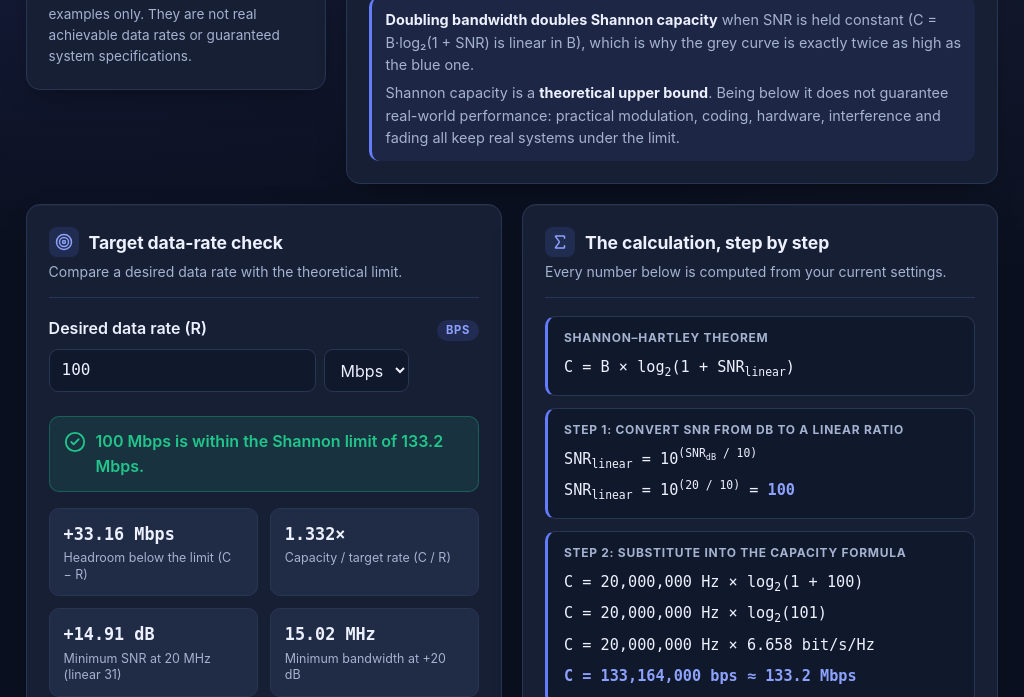
Scenario: Stage 6: target analyzer › flags a target above capacity and gives the required SNR / bandwidth
(page scrolled)
Replace the text in the field labelled "Desired data rate (R)" with "200" at (182, 371), box [49, 349, 316, 392]
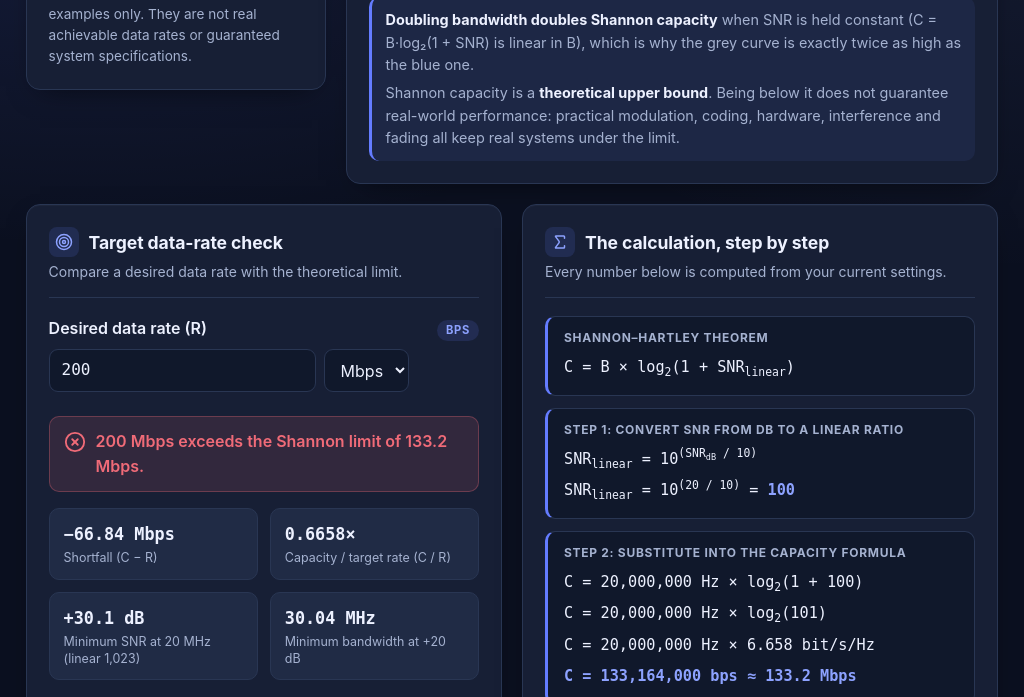
Check: the text "+30.1 dB" is shown, box [64, 608, 144, 628]
Check: the text "30.04 MHz" is shown, box [285, 608, 376, 628]
